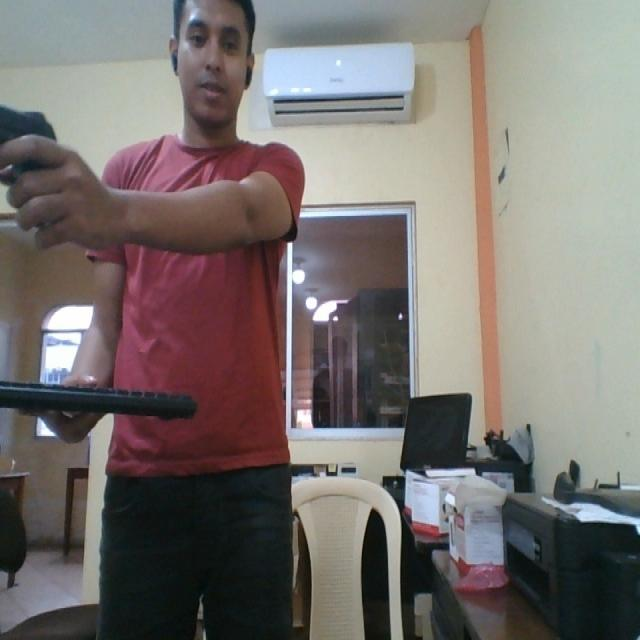weapon: (0, 102, 61, 193)
